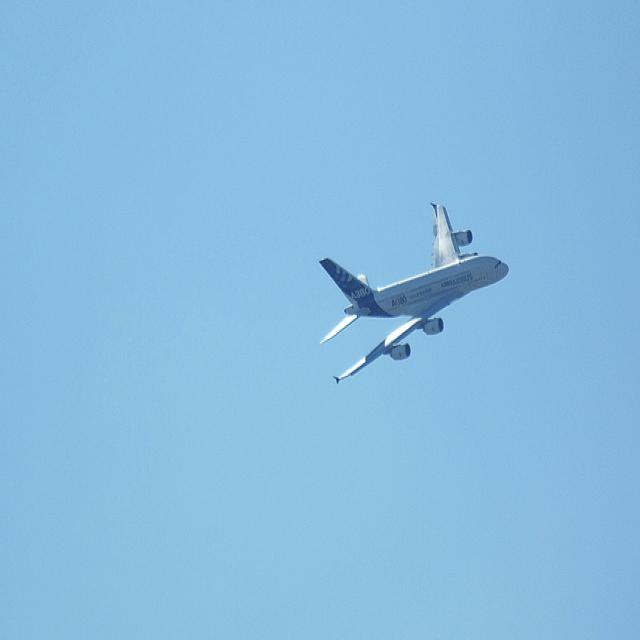airplane: (315, 200, 511, 386)
